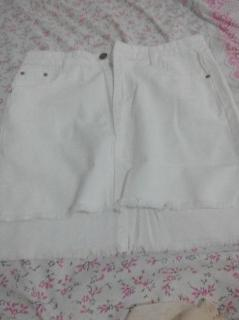skirt: (0, 34, 239, 261)
